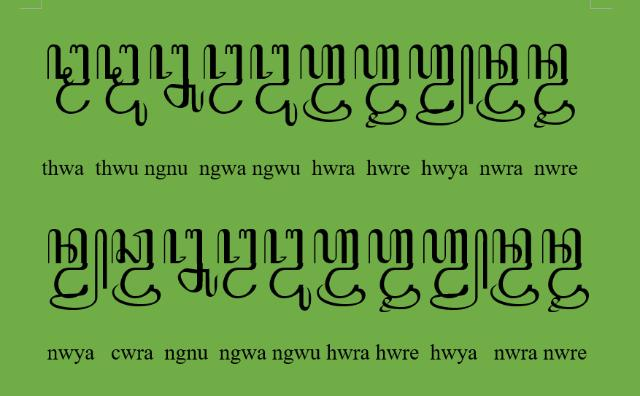cwr: (110, 228, 162, 308)
hwr: (299, 43, 353, 123), (314, 229, 366, 307)
hwre: (354, 44, 406, 128), (368, 229, 420, 313)
hwy: (409, 44, 475, 126), (423, 229, 489, 311)
ngnu: (150, 43, 204, 113), (164, 228, 218, 298)
ngwa: (218, 228, 258, 300), (203, 44, 243, 114)
ngwu: (250, 44, 298, 128), (264, 228, 312, 312)
nwr: (490, 227, 540, 306), (477, 44, 525, 124)
nwre: (542, 227, 590, 312), (527, 44, 575, 128)
nwy: (48, 229, 108, 311)
thw: (47, 44, 91, 114)
thwu: (96, 44, 148, 128)
